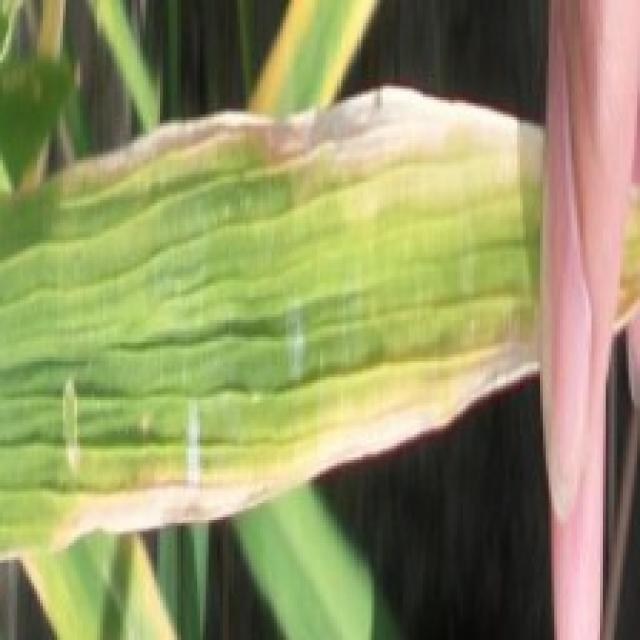Rice___Bacterial_Leaf_Blight: (0, 80, 637, 559)
